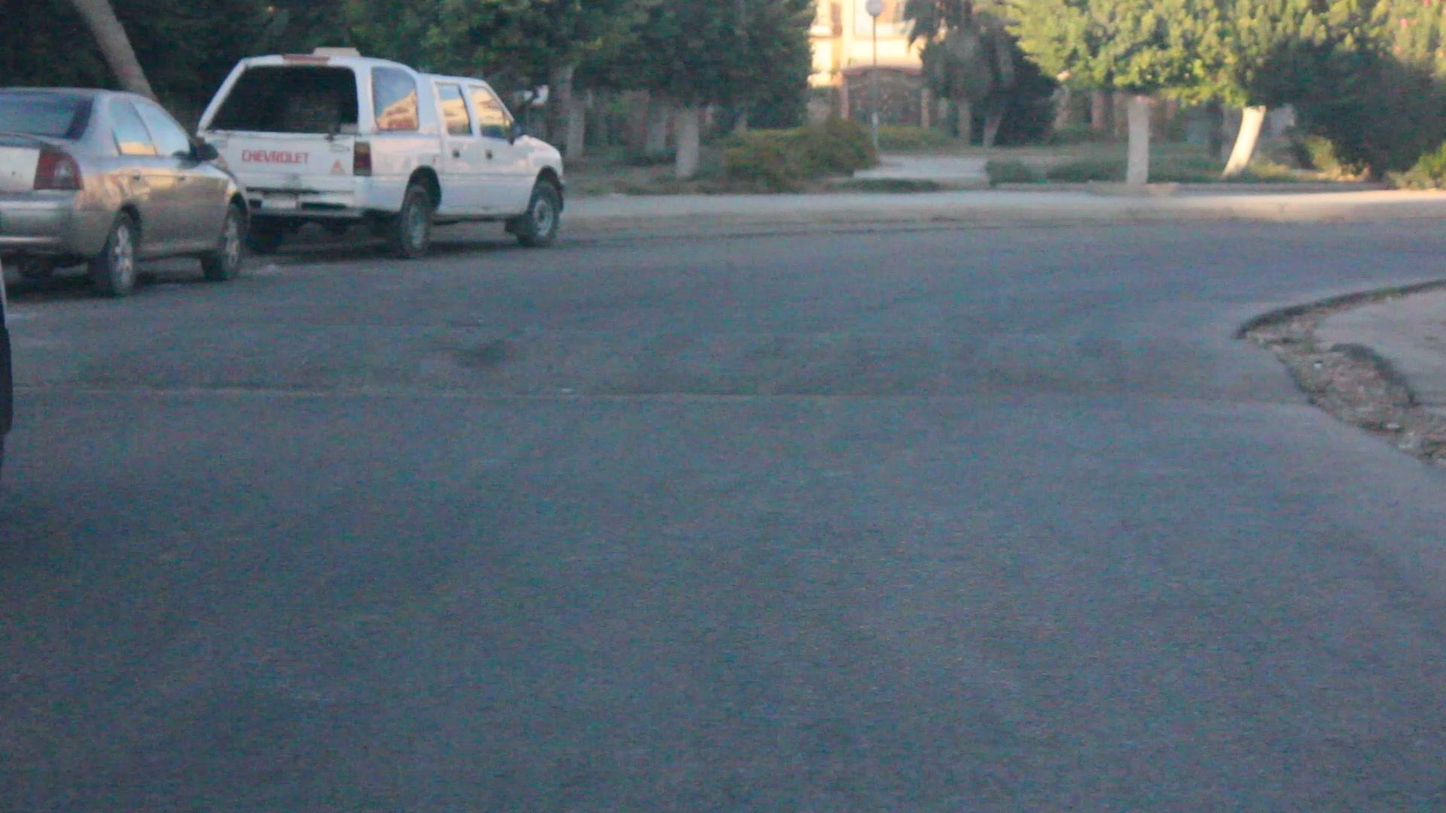Bump: (19, 314, 1326, 406)
